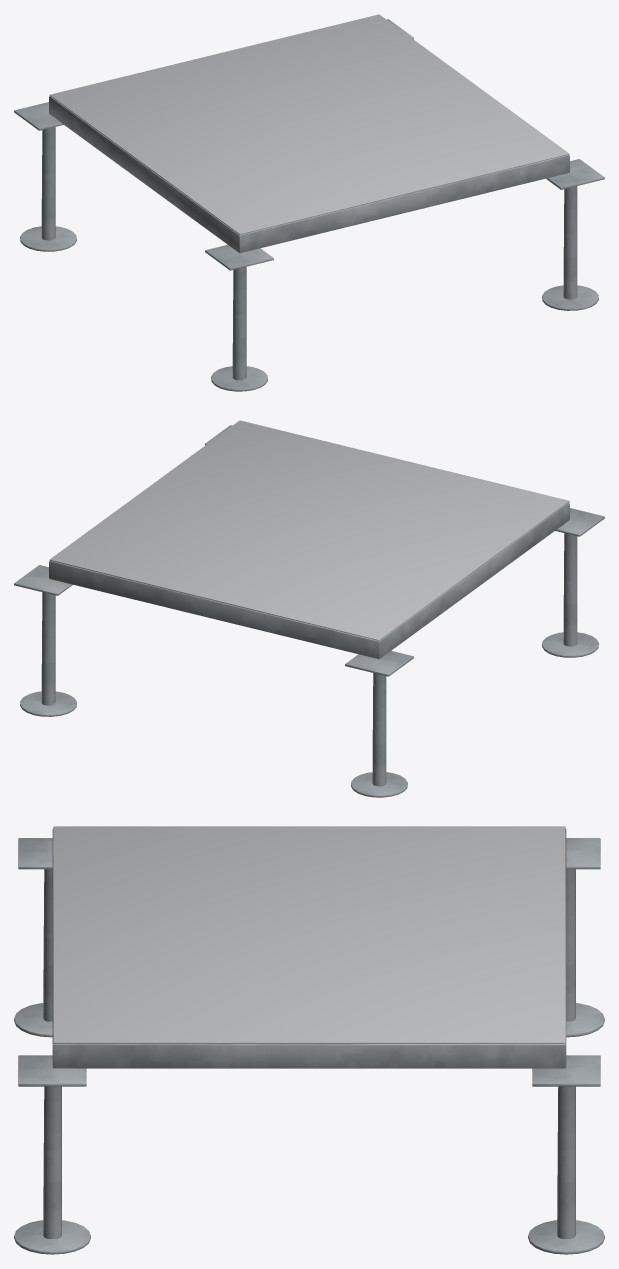
Rendered from PIS-OUT-006_lod1.glb.
The picture shows the model from 3 angles, top to bottom: view 1: azimuth 30°, elevation 25°; view 2: azimuth 150°, elevation 25°; view 3: azimuth 270°, elevation 25°; orthographic projection. The views are drawn at different scales.
Parts seen in each view (by area): view 1: PIS-OUT-006_topo, PIS-OUT-006_placa, PIS-OUT-006_haste1, PIS-OUT-006_haste3, PIS-OUT-006_haste0, PIS-OUT-006_base1, PIS-OUT-006_base3, PIS-OUT-006_base0, PIS-OUT-006_cabeca0, PIS-OUT-006_cabeca1, PIS-OUT-006_cabeca3; view 2: PIS-OUT-006_topo, PIS-OUT-006_placa, PIS-OUT-006_haste3, PIS-OUT-006_haste0, PIS-OUT-006_haste2, PIS-OUT-006_base2, PIS-OUT-006_base0, PIS-OUT-006_base3, PIS-OUT-006_cabeca3, PIS-OUT-006_cabeca2, PIS-OUT-006_cabeca0; view 3: PIS-OUT-006_topo, PIS-OUT-006_placa, PIS-OUT-006_haste2, PIS-OUT-006_haste1, PIS-OUT-006_base1, PIS-OUT-006_base2, PIS-OUT-006_cabeca1, PIS-OUT-006_cabeca2, PIS-OUT-006_haste3, PIS-OUT-006_haste0, PIS-OUT-006_cabeca3, PIS-OUT-006_cabeca0 (+2 smaller).
Part boxes in pixels (x1,y1,x2,y2): PIS-OUT-006_topo: [49, 14, 569, 234]; PIS-OUT-006_placa: [49, 96, 569, 253]; PIS-OUT-006_haste1: [563, 186, 577, 299]; PIS-OUT-006_haste3: [41, 127, 55, 240]; PIS-OUT-006_haste0: [232, 267, 246, 380]; PIS-OUT-006_base1: [542, 285, 598, 310]; PIS-OUT-006_base3: [20, 226, 76, 251]; PIS-OUT-006_base0: [211, 366, 267, 391]; PIS-OUT-006_cabeca0: [205, 244, 273, 270]; PIS-OUT-006_cabeca1: [546, 159, 604, 189]; PIS-OUT-006_cabeca3: [14, 102, 63, 130]; PIS-OUT-006_topo: [49, 420, 569, 640]; PIS-OUT-006_placa: [49, 502, 569, 659]; PIS-OUT-006_haste3: [372, 673, 386, 786]; PIS-OUT-006_haste0: [563, 533, 577, 646]; PIS-OUT-006_haste2: [41, 592, 55, 705]; PIS-OUT-006_base2: [20, 691, 76, 716]; PIS-OUT-006_base0: [542, 632, 598, 657]; PIS-OUT-006_base3: [351, 772, 407, 797]; PIS-OUT-006_cabeca3: [345, 651, 413, 676]; PIS-OUT-006_cabeca2: [14, 565, 72, 595]; PIS-OUT-006_cabeca0: [555, 508, 604, 536]; PIS-OUT-006_topo: [53, 826, 565, 1043]; PIS-OUT-006_placa: [52, 828, 566, 1068]; PIS-OUT-006_haste2: [557, 1086, 575, 1238]; PIS-OUT-006_haste1: [43, 1086, 61, 1238]; PIS-OUT-006_base1: [14, 1220, 90, 1254]; PIS-OUT-006_base2: [528, 1220, 604, 1254]; PIS-OUT-006_cabeca1: [18, 1055, 86, 1086]; PIS-OUT-006_cabeca2: [532, 1055, 600, 1086]; PIS-OUT-006_haste3: [566, 869, 575, 1021]; PIS-OUT-006_haste0: [43, 869, 52, 1021]; PIS-OUT-006_cabeca3: [566, 838, 600, 869]; PIS-OUT-006_cabeca0: [18, 838, 52, 869].
Size of the model in its own units: 0.69 by 0.252 by 0.69.
2 materials, 1 textured.
